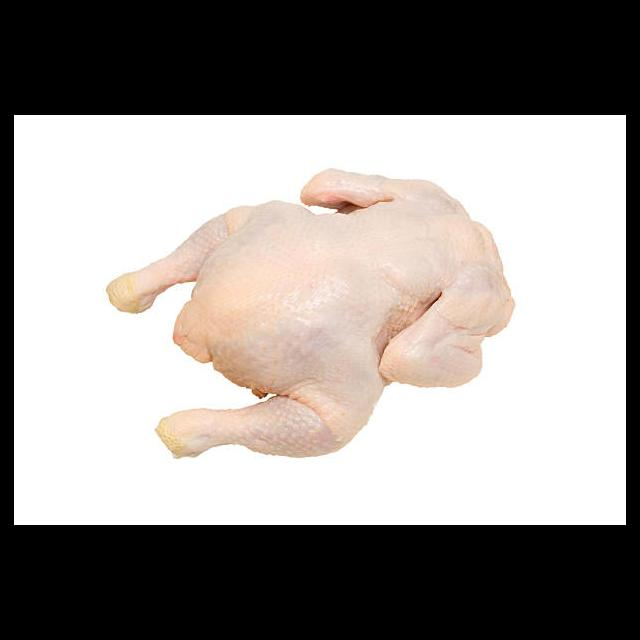chicken: (106, 168, 515, 460)
